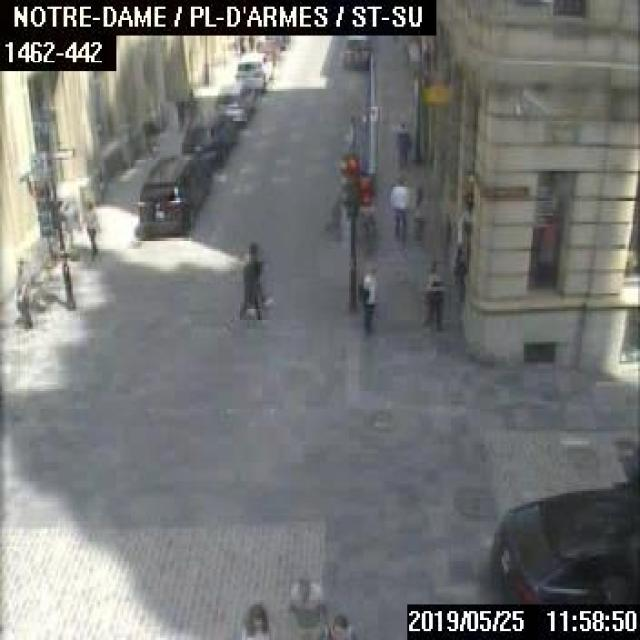pedestrian: (286, 576, 331, 638), (237, 238, 266, 320), (418, 260, 446, 333), (356, 261, 378, 334), (9, 256, 31, 326), (388, 177, 408, 243), (357, 195, 377, 254), (60, 196, 80, 251), (82, 196, 100, 256), (242, 603, 269, 637), (331, 604, 358, 638), (393, 121, 410, 169), (411, 184, 425, 241)
vehicle: (489, 484, 638, 600), (137, 156, 211, 233), (182, 113, 233, 168), (211, 81, 256, 124), (234, 50, 271, 88), (341, 32, 369, 70), (254, 37, 278, 64)
